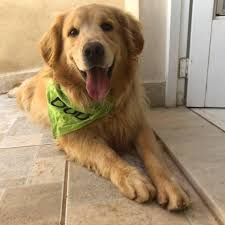Bulldog: (11, 1, 206, 219)
